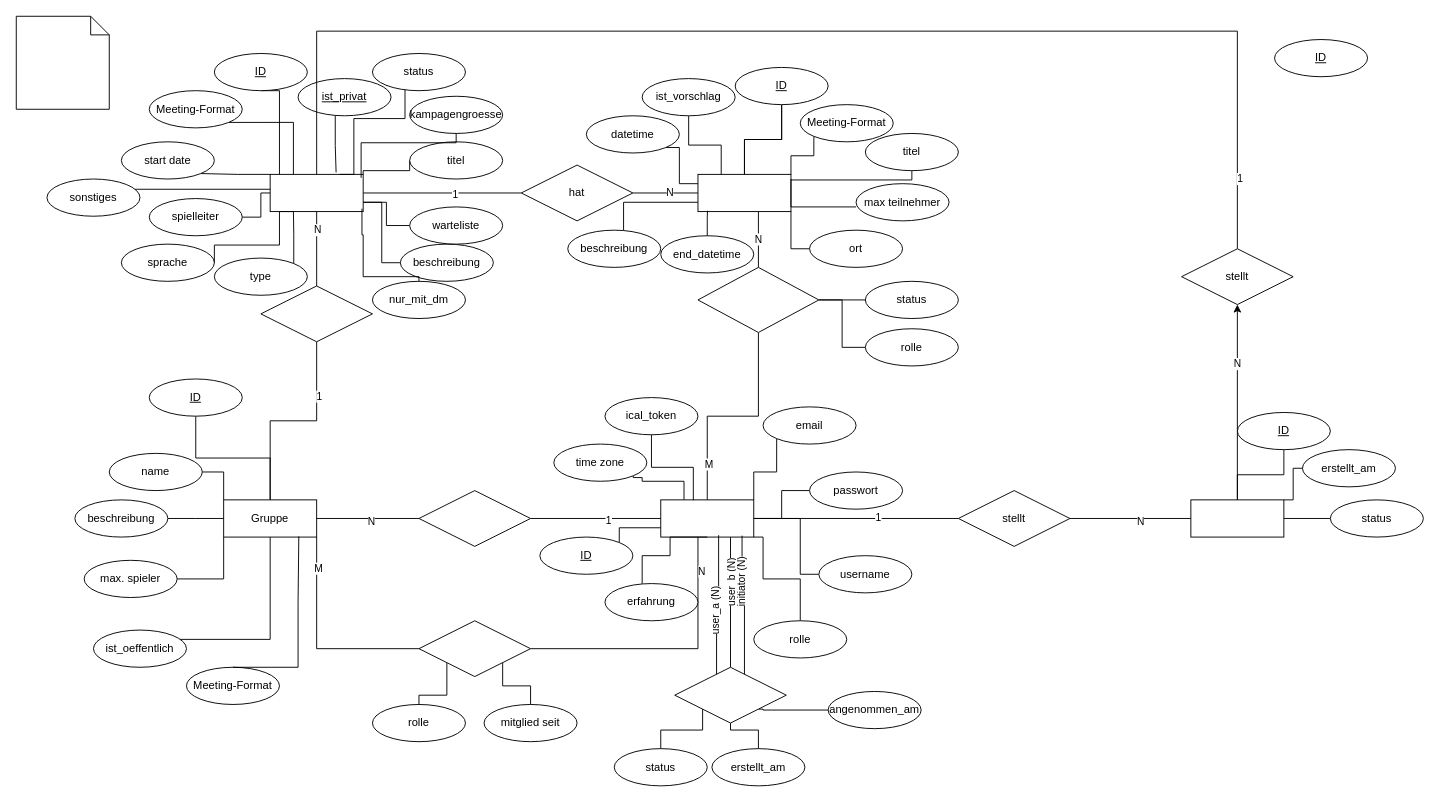
Image size: 1440x803. Some labels were removed from this diagram. Here are the shapes that lost their labels. From the top down, the box of each, then its label:
(15, 15, 109, 109): ER-Diagramm Campain Connect v 1.2
(269, 173, 363, 212): Kampagne
(697, 173, 791, 212): Session
(260, 285, 372, 342): gehört zu
(697, 266, 819, 332): nimmt an Session Teil
(418, 490, 531, 546): erstellt
(660, 499, 754, 537): Spieler
(1190, 499, 1284, 537): Beitrittsanfrage
(418, 620, 531, 677): ist mitglied
(674, 666, 786, 723): Freundschaft
